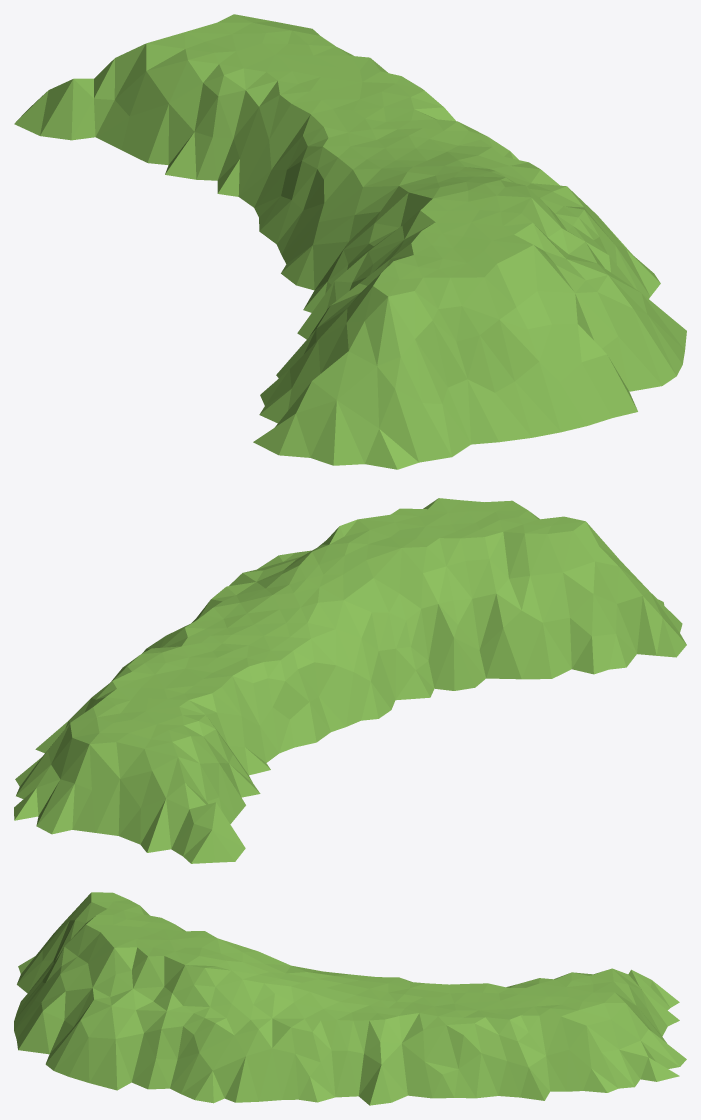
File: MT_Island_L_b_04_LOD.fbx
3 renders of one model, top to bottom at view 1: azimuth 30°, elevation 25°; view 2: azimuth 150°, elevation 25°; view 3: azimuth 270°, elevation 25°, orthographic. The views are drawn at different scales.
Visible parts, largest first — view 1: MT_Island_L_b_04_LOD0; view 2: MT_Island_L_b_04_LOD0; view 3: MT_Island_L_b_04_LOD0.
Part boxes in pixels (x1=…): MT_Island_L_b_04_LOD0: x1=14, y1=14, x2=686, y2=469; MT_Island_L_b_04_LOD0: x1=14, y1=498, x2=686, y2=863; MT_Island_L_b_04_LOD0: x1=14, y1=892, x2=686, y2=1105.
Size of what is drawn, in the model's own units: 5701 by 1433 by 9740.
